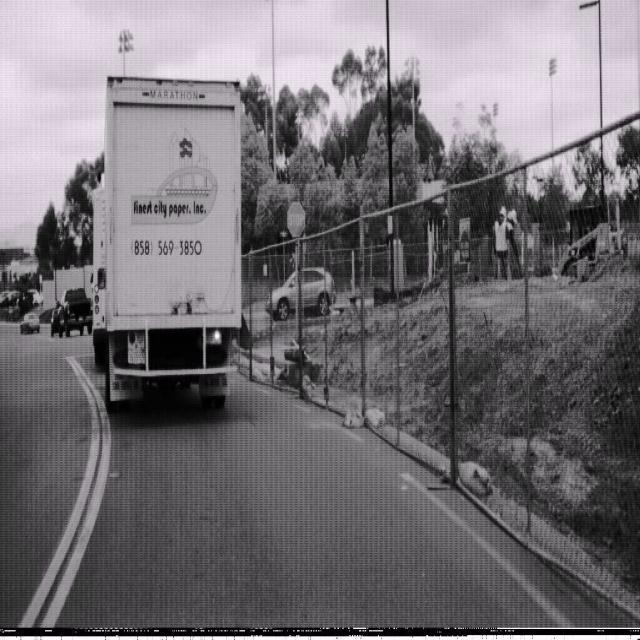stop: (286, 200, 306, 238)
